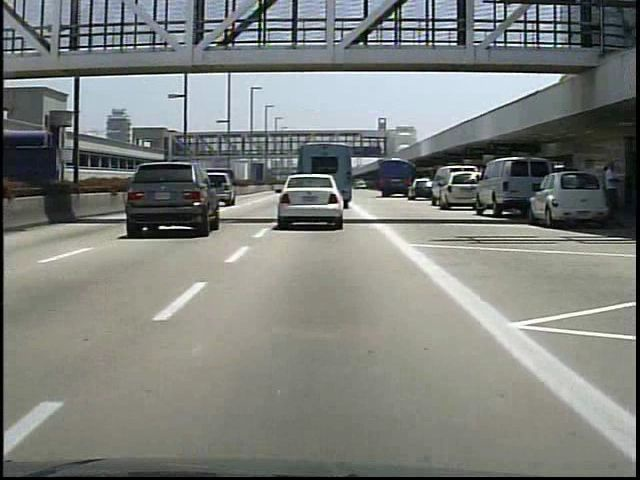person: (600, 153, 627, 230)
